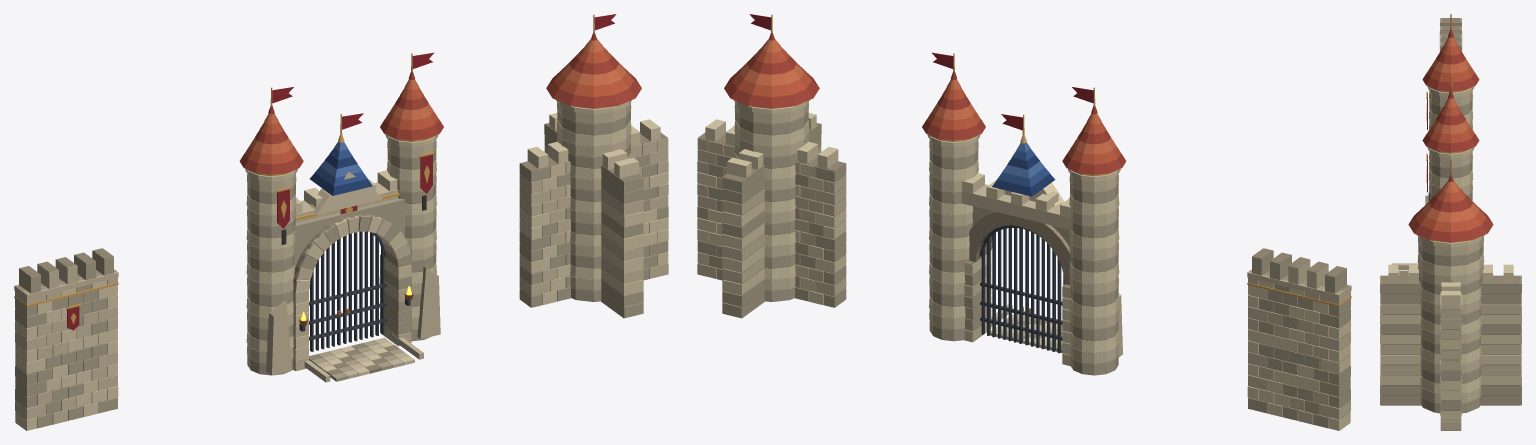
The model's file is muralhas-nivel-9.glb.
3 views of the same model, side by side, from view 1: azimuth 30°, elevation 25°; view 2: azimuth 150°, elevation 25°; view 3: azimuth 270°, elevation 25° (orthographic). The views are drawn at different scales.
Visible parts, largest first — view 1: gate_9_cfc1a3, tower_9_ded0ad, tower_9_b4a98f, gate_9_b4a98f, gate_9_ded0ad, tower_9_cfc1a3, wall_9_b4a98f, wall_9_cfc1a3, wall_9_ded0ad, right_9_3a424d, left_9_3a424d, gate_9_9a8d77 (+12 smaller); view 2: tower_9_ded0ad, gate_9_cfc1a3, tower_9_b4a98f, tower_9_cfc1a3, gate_9_ded0ad, gate_9_b4a98f, wall_9_b4a98f, wall_9_cfc1a3, wall_9_ded0ad, right_9_3a424d, gate_9_9a8d77, left_9_3a424d (+11 smaller); view 3: tower_9_ded0ad, tower_9_b4a98f, tower_9_cfc1a3, tower_9_9a8d77, gate_9_9e4235, tower_9_9e4235, gate_9_b9583c, gate_9_cfc1a3, tower_9_b9583c, gate_9_ded0ad, gate_9_c66c49, tower_9_c66c49 (+6 smaller).
Boxes of the visible parts, left/top/right/bottom form: gate_9_cfc1a3: left=247, top=140, right=440, bottom=382; tower_9_ded0ad: left=519, top=100, right=668, bottom=305; tower_9_b4a98f: left=519, top=109, right=668, bottom=318; gate_9_b4a98f: left=247, top=149, right=436, bottom=381; gate_9_ded0ad: left=245, top=134, right=438, bottom=376; tower_9_cfc1a3: left=519, top=102, right=668, bottom=296; wall_9_b4a98f: left=15, top=250, right=117, bottom=428; wall_9_cfc1a3: left=14, top=257, right=118, bottom=424; wall_9_ded0ad: left=15, top=280, right=118, bottom=430; right_9_3a424d: left=342, top=231, right=387, bottom=343; left_9_3a424d: left=308, top=237, right=342, bottom=351; gate_9_9a8d77: left=251, top=154, right=432, bottom=377; tower_9_ded0ad: left=697, top=100, right=846, bottom=305; gate_9_cfc1a3: left=929, top=140, right=1122, bottom=366; tower_9_b4a98f: left=697, top=109, right=846, bottom=318; tower_9_cfc1a3: left=697, top=102, right=846, bottom=296; gate_9_ded0ad: left=927, top=134, right=1120, bottom=354; gate_9_b4a98f: left=929, top=149, right=1118, bottom=375; wall_9_b4a98f: left=1248, top=250, right=1350, bottom=428; wall_9_cfc1a3: left=1247, top=257, right=1351, bottom=424; wall_9_ded0ad: left=1247, top=280, right=1350, bottom=430; right_9_3a424d: left=979, top=225, right=1024, bottom=343; gate_9_9a8d77: left=933, top=154, right=1114, bottom=375; left_9_3a424d: left=1023, top=228, right=1064, bottom=353; tower_9_ded0ad: left=1380, top=235, right=1521, bottom=420; tower_9_b4a98f: left=1380, top=243, right=1521, bottom=415; tower_9_cfc1a3: left=1380, top=237, right=1521, bottom=430; tower_9_9a8d77: left=1381, top=250, right=1520, bottom=430; gate_9_9e4235: left=1422, top=30, right=1479, bottom=152; tower_9_9e4235: left=1408, top=175, right=1493, bottom=242; gate_9_b9583c: left=1427, top=44, right=1474, bottom=143; gate_9_cfc1a3: left=1392, top=91, right=1472, bottom=270; tower_9_b9583c: left=1415, top=188, right=1486, bottom=232; gate_9_ded0ad: left=1408, top=86, right=1474, bottom=275; gate_9_c66c49: left=1431, top=37, right=1470, bottom=134; tower_9_c66c49: left=1422, top=181, right=1479, bottom=222.
Size of the model in its own units: 27.99 by 11.59 by 6.02.
